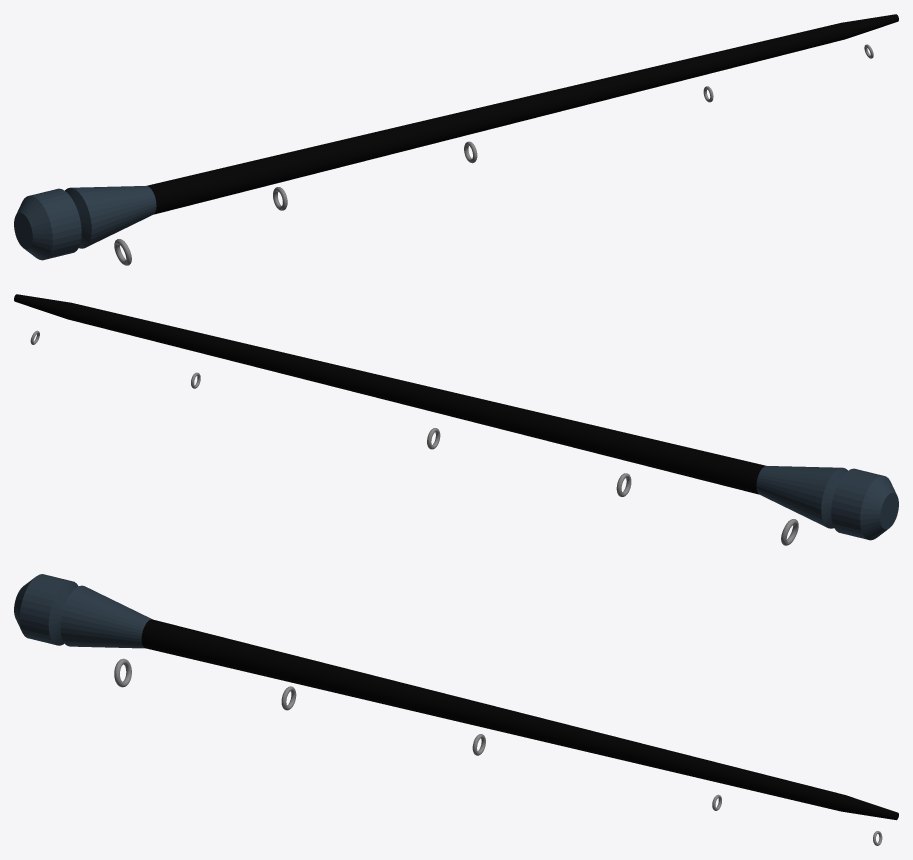
Rendered from FishLower.fbx.
3 renders of one model, top to bottom at view 1: azimuth 30°, elevation 25°; view 2: azimuth 150°, elevation 25°; view 3: azimuth 330°, elevation 25°, orthographic.
Visible parts, largest first — view 1: Cylinder.007; view 2: Cylinder.007; view 3: Cylinder.007.
Part boxes in pixels (<box>): Cylinder.007: <box>14,14,898,265</box>; Cylinder.007: <box>14,294,898,545</box>; Cylinder.007: <box>14,574,898,845</box>.
Bounding box in the file's own units: 228 × 22.01 × 14.96.
